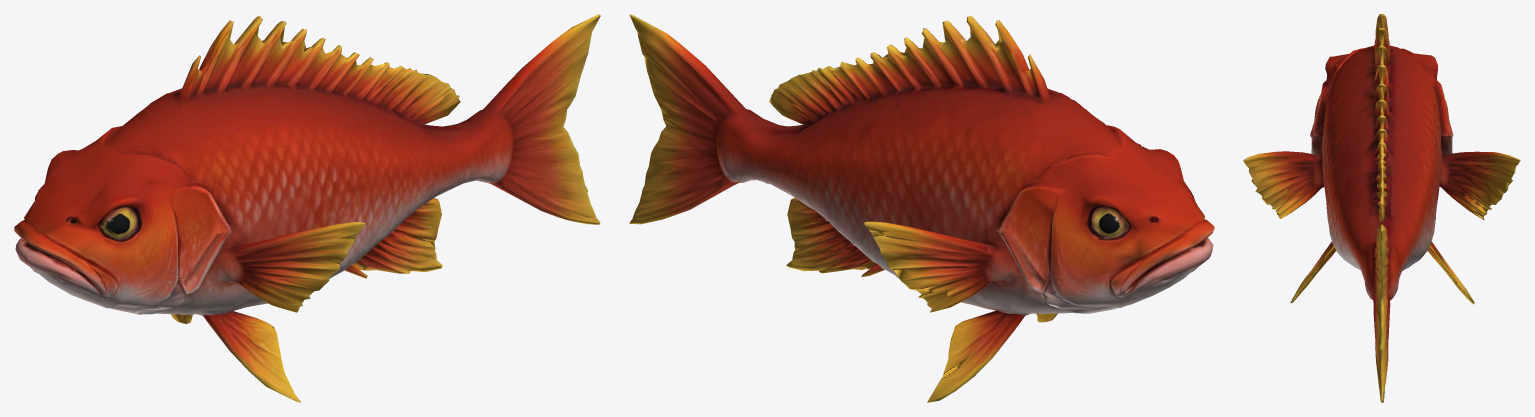
File: fish-lucian.glb
The picture shows the model from 3 angles, left to right: view 1: azimuth 30°, elevation 25°; view 2: azimuth 150°, elevation 25°; view 3: azimuth 270°, elevation 25°; orthographic projection. The views are drawn at different scales.
Visible parts, largest first — view 1: tripo_node_d9864c81-7c53-4380-b9c6-969b0e59332d; view 2: tripo_node_d9864c81-7c53-4380-b9c6-969b0e59332d; view 3: tripo_node_d9864c81-7c53-4380-b9c6-969b0e59332d.
Boxes of the visible parts, x1,y1,x2,y2 form: tripo_node_d9864c81-7c53-4380-b9c6-969b0e59332d: (14, 14, 600, 402); tripo_node_d9864c81-7c53-4380-b9c6-969b0e59332d: (629, 14, 1214, 402); tripo_node_d9864c81-7c53-4380-b9c6-969b0e59332d: (1243, 14, 1520, 402).
Bounding box in the file's own units: 0.999 × 0.5695 × 0.5041.
1 material, 1 textured.
